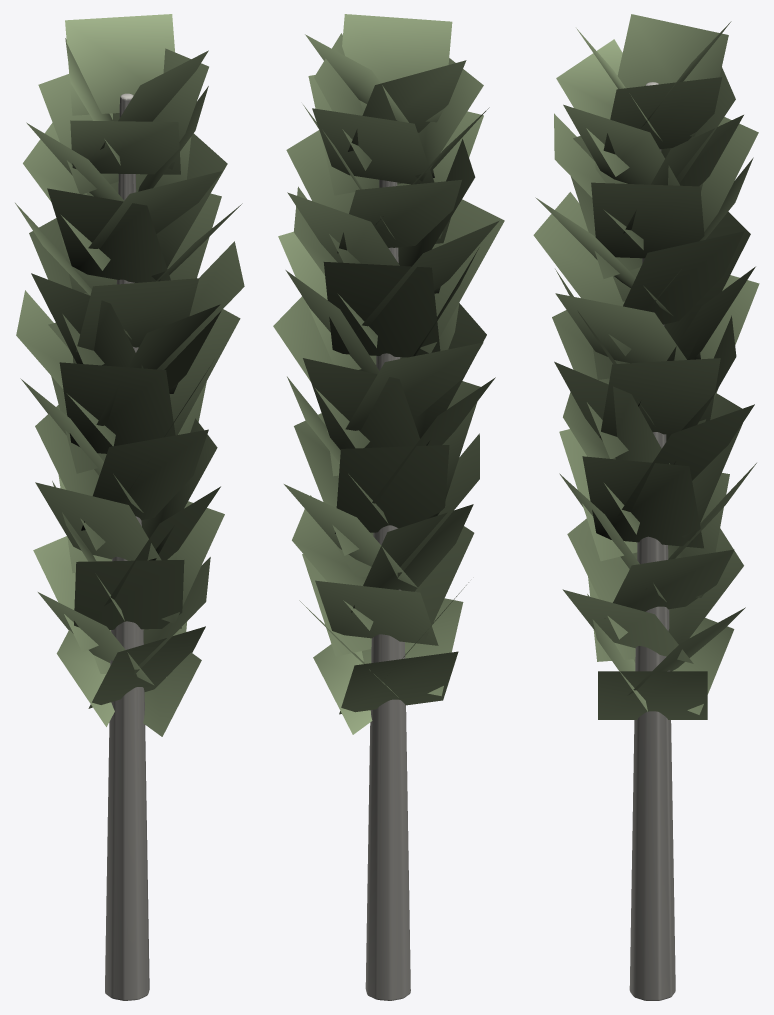
File: tree_poplar.glb
The picture shows the model from 3 angles, left to right: view 1: azimuth 30°, elevation 25°; view 2: azimuth 150°, elevation 25°; view 3: azimuth 270°, elevation 25°; orthographic projection.
Visible parts, largest first — view 1: tree_poplar; view 2: tree_poplar; view 3: tree_poplar.
Boxes of the visible parts, x1,y1,x2,y2 form: tree_poplar: [15, 14, 244, 1000]; tree_poplar: [273, 14, 504, 1000]; tree_poplar: [533, 14, 759, 1000].
Bounding box in the file's own units: 1.58 × 6.77 × 1.44.
